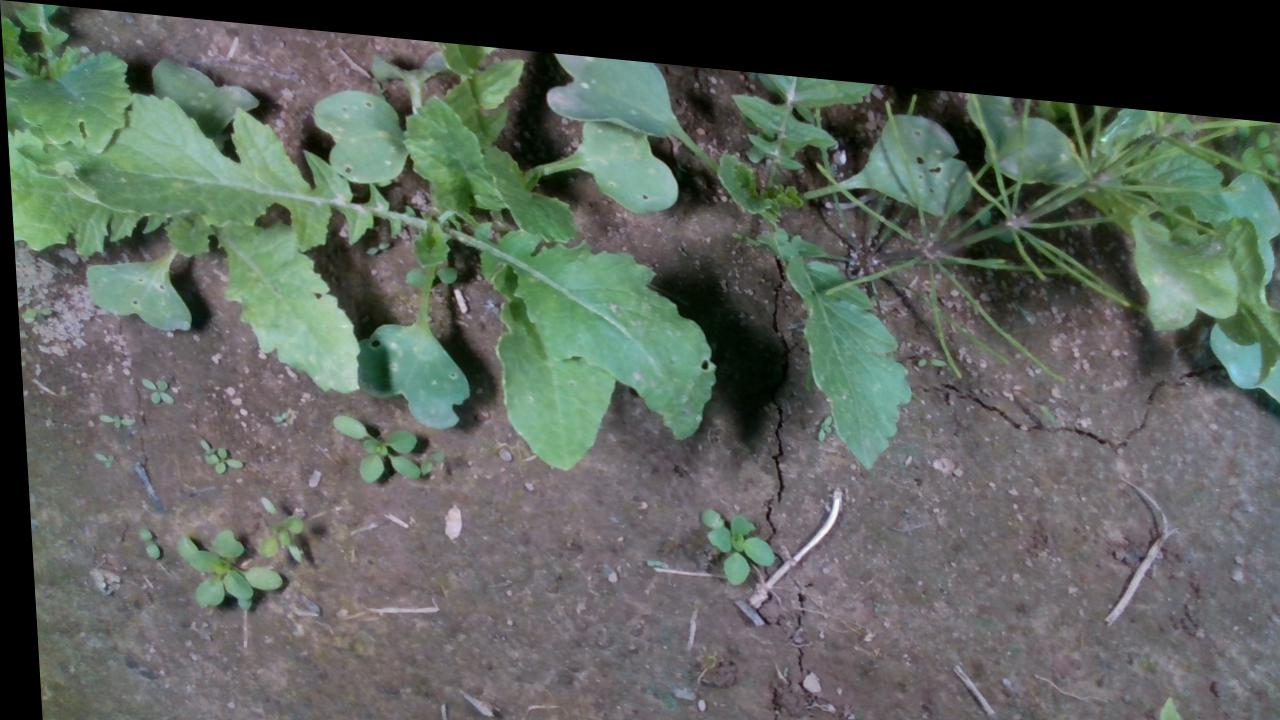weed: (134, 373, 169, 402), (90, 407, 134, 428), (129, 522, 154, 558), (86, 447, 112, 468)
